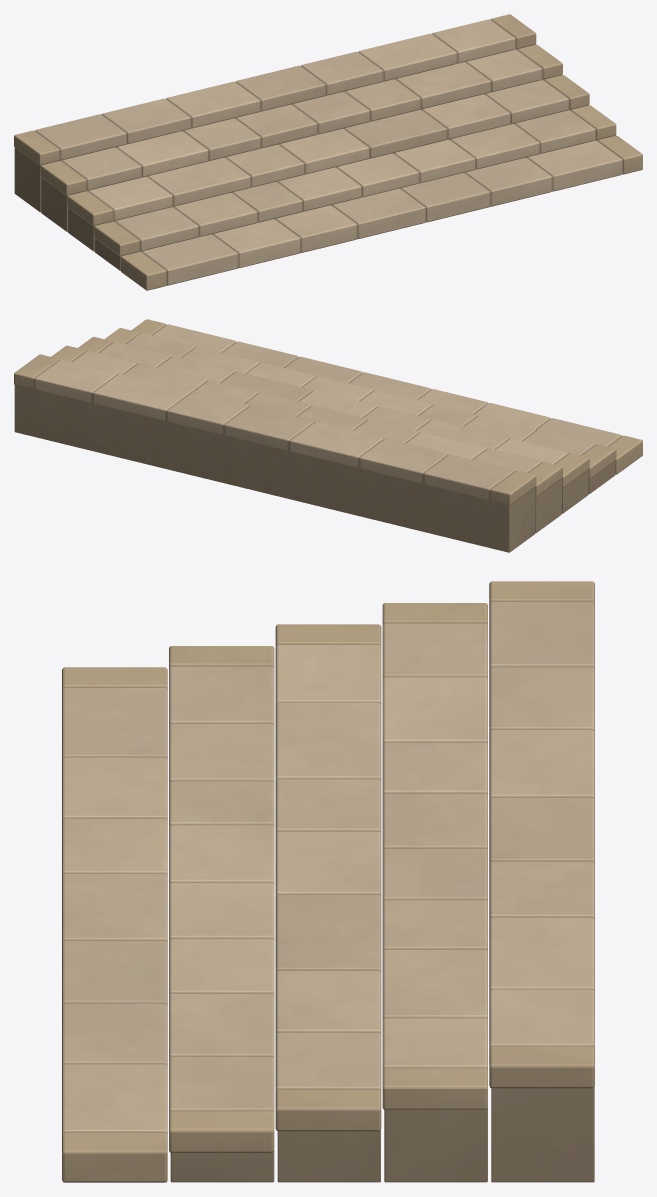
The model's file is plaza-steps.glb.
The picture shows the model from 3 angles, top to bottom: view 1: azimuth 30°, elevation 25°; view 2: azimuth 150°, elevation 25°; view 3: azimuth 270°, elevation 25°; orthographic projection. The views are drawn at different scales.
Parts seen in each view (by area): view 1: plaza-steps; view 2: plaza-steps; view 3: plaza-steps.
Boxes of the visible parts, x1,y1,x2,y2 form: plaza-steps: (14, 14, 642, 290); plaza-steps: (14, 319, 642, 552); plaza-steps: (62, 581, 594, 1182).
Size of the model in its own units: 5.8 by 0.66 by 2.69.
1 material, 1 textured.
